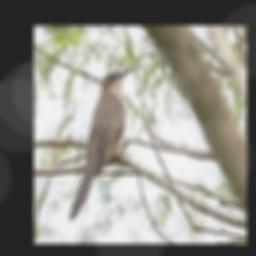Cuckoo: (69, 69, 131, 220)
